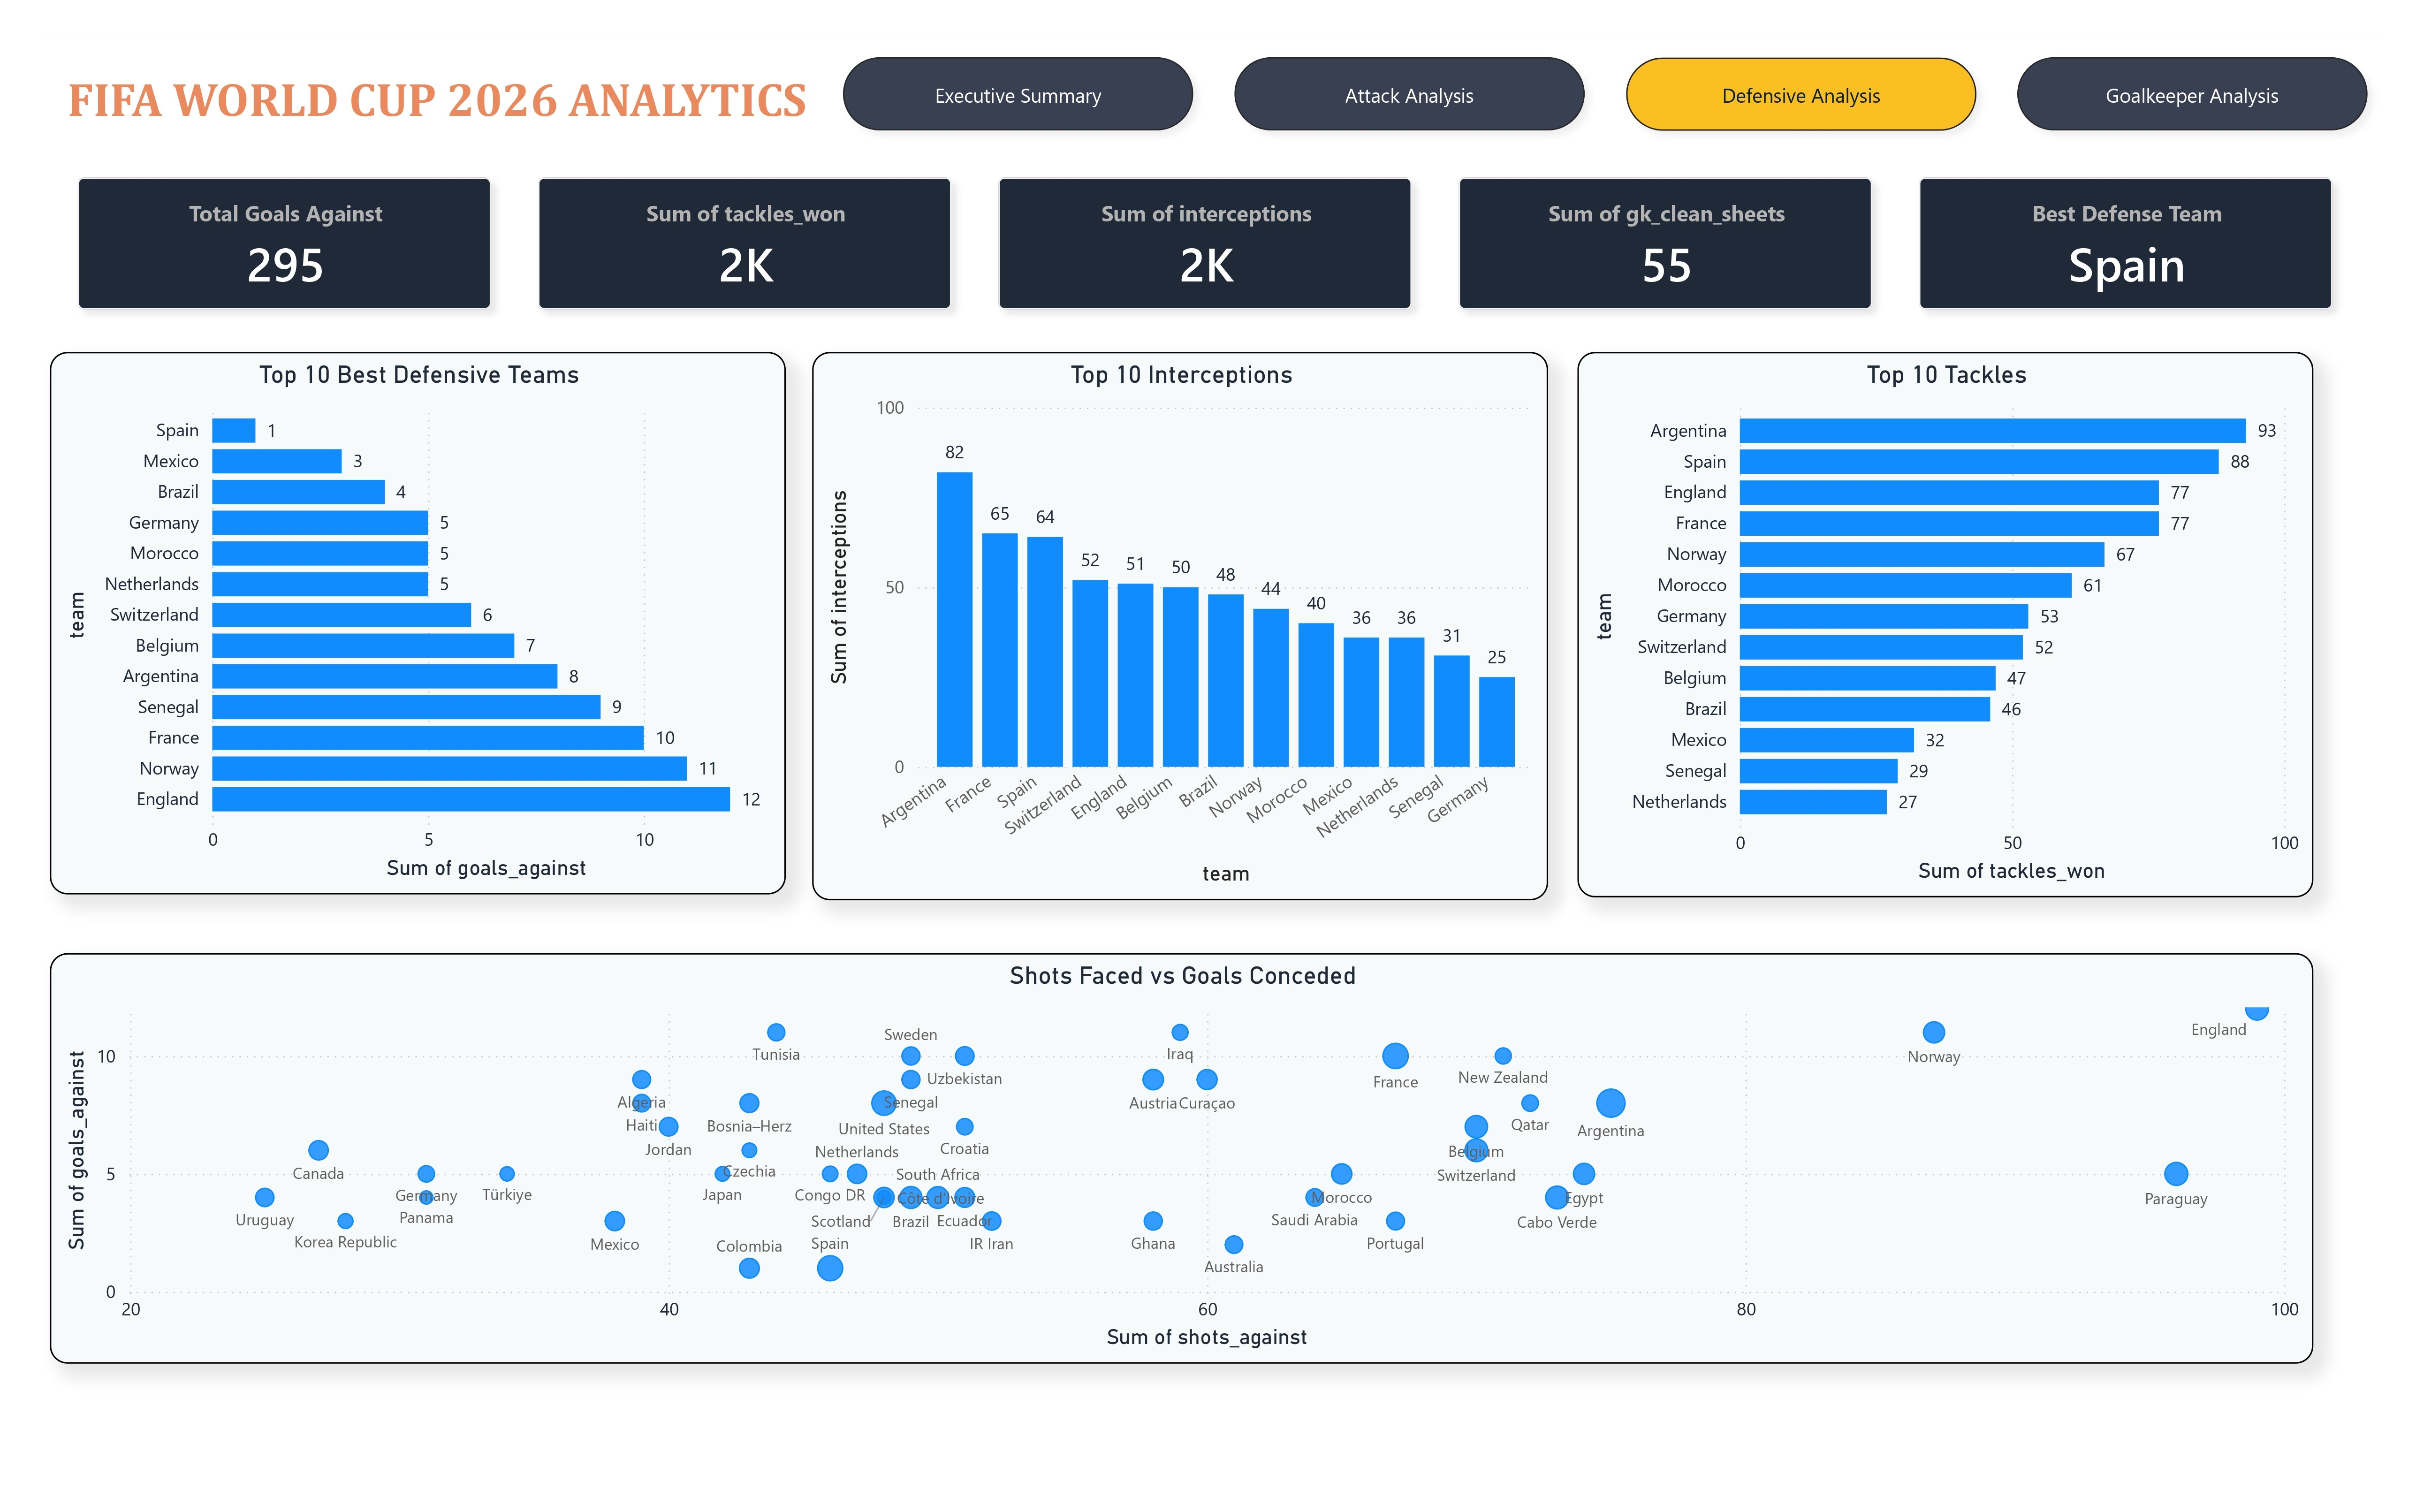

The page's visual inventory and layout, read from the dashboard file:
{"tool":"powerbi","page":{"name":"Defensive Analysis","canvas":[1600,1700],"ordinal":2},"visuals":[{"type":"cardVisual","fields":{"Data":["teams csv.Total Goals Against","Sum(teams csv.tackles_won)","Sum(teams csv.interceptions)","Sum(teams csv.gk_clean_sheets)","teams csv.Best Defense Team"]},"box":[0,68,1600,148],"z":0},{"type":"clusteredBarChart","title":"Top 10 Best Defensive Teams","fields":{"Category":["teams csv.team"],"Y":["Sum(teams csv.goals_against)"]},"box":[10,216,502,370],"z":1000},{"type":"clusteredBarChart","title":"Top 10 Tackles","fields":{"Category":["teams csv.team"],"Y":["Sum(teams csv.tackles_won)"]},"box":[1052,216,502,372],"z":2000},{"type":"textbox","box":[10,20,531.7,48.3],"z":3000},{"type":"pageNavigator","box":[541.7,5.8,1058.3,68.3],"z":4000},{"type":"clusteredColumnChart","title":"Top 10 Interceptions","fields":{"Category":["teams csv.team"],"Y":["Sum(teams csv.interceptions)"]},"box":[530,216,502,374],"z":5000},{"type":"scatterChart","title":"Shots Faced vs Goals Conceded","fields":{"X":["Sum(teams csv.shots_against)"],"Category":["teams csv.team"],"Y":["Sum(teams csv.goals_against)"],"Size":["Sum(teams csv.interceptions)"]},"box":[10,626,1544,280],"z":6001}]}

Visuals, with their boxes on the page's 1600x1700 design canvas (x1, y1, x2, y2). These are canvas units, not pixel positions in the 2416x1512 screenshot, which may show the page scaled, cropped or inside an application window:
cardVisual - teams csv.Total Goals Against x Sum(teams csv.tackles_won): [0,68,1600,216]
"Top 10 Best Defensive Teams" clusteredBarChart: [10,216,512,586]
"Top 10 Tackles" clusteredBarChart: [1052,216,1554,588]
textbox: [10,20,542,68]
pageNavigator: [542,6,1600,74]
"Top 10 Interceptions" clusteredColumnChart: [530,216,1032,590]
"Shots Faced vs Goals Conceded" scatterChart: [10,626,1554,906]
